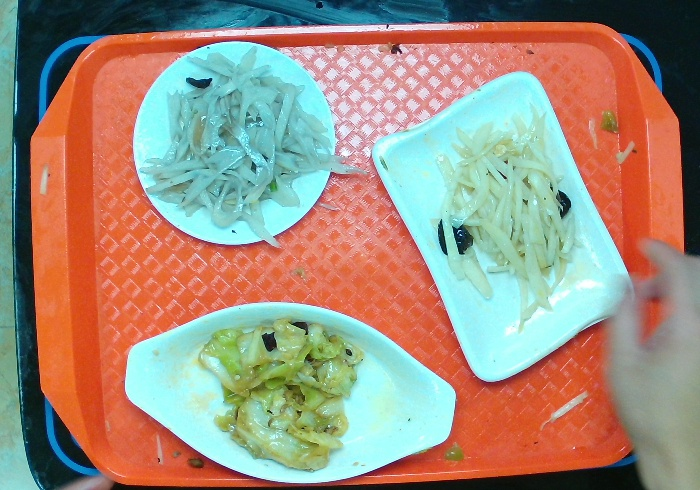RJxy-Si_Fang_Ao_Bian_Wan: (378, 76, 636, 384)
RJxy-Xiao_Yuan_Die: (130, 43, 333, 247)
RJxy-Yu_Pan: (124, 298, 462, 490)
